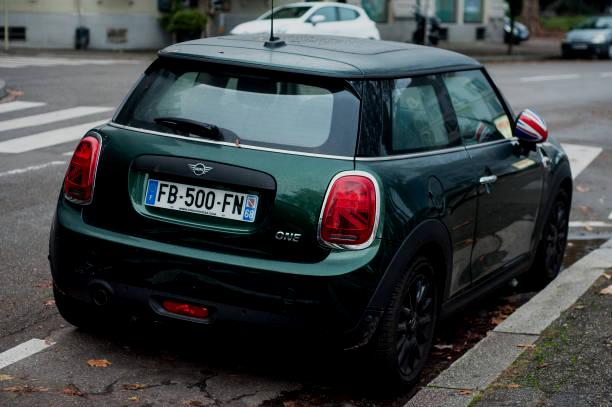mini: (182, 154, 220, 187)
